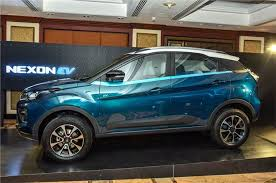Tata Nexon: (16, 46, 262, 164)
